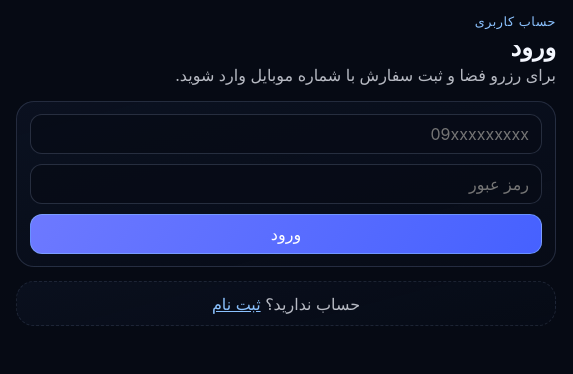
it: forms surface api errors › shows login api errors
This screenshot has width=573, height=374.
Step 1. Type "09121234567" into the field → (286, 134), box [30,114,542,154]
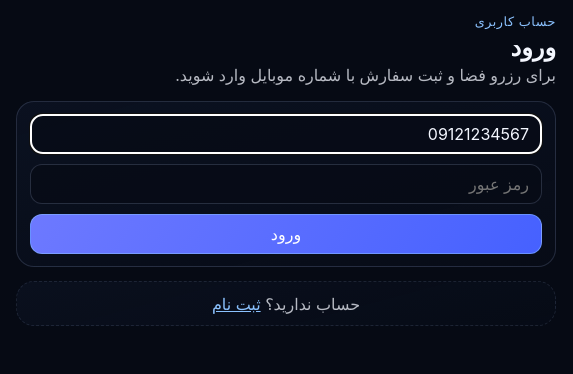
Step 2. Type "badpass" into the password field with placeholder "رمز عبور" → (286, 184), box [30,164,542,204]
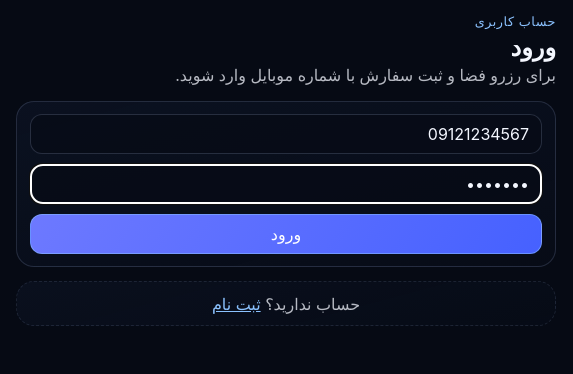
Step 3. Click the button "ورود" → (286, 234), box [30,214,542,254]
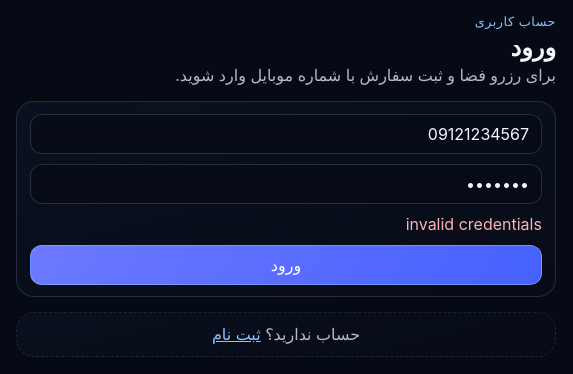
Check: the text "invalid credentials" is shown, box [406,214,542,234]
